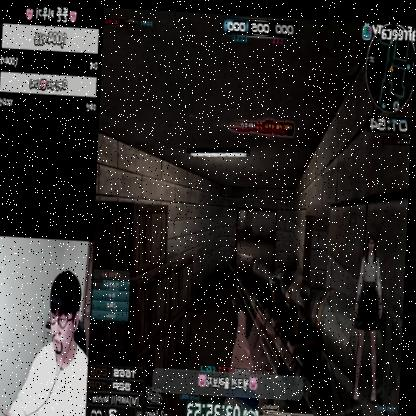streamer: (7, 265, 94, 416)
